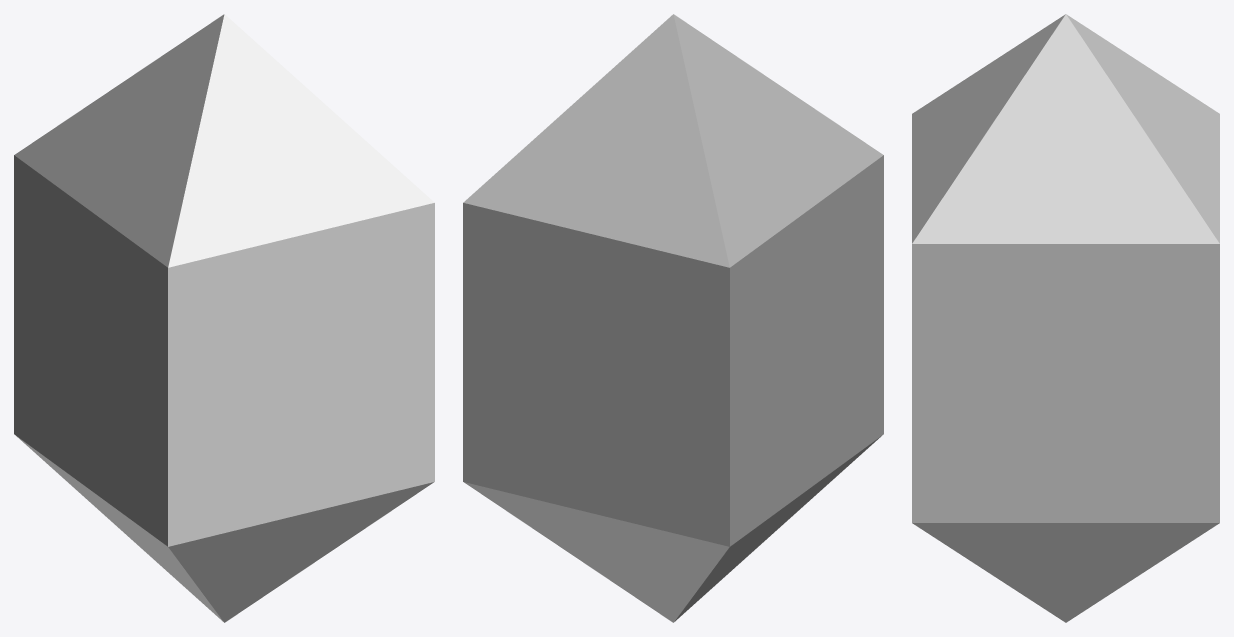
File: power-box.glb
The picture shows the model from 3 angles, left to right: view 1: azimuth 30°, elevation 25°; view 2: azimuth 150°, elevation 25°; view 3: azimuth 270°, elevation 25°; orthographic projection.
Visible parts, largest first — view 1: Cube; view 2: Cube; view 3: Cube.
Boxes of the visible parts, x1,y1,x2,y2 form: Cube: [14, 14, 434, 622]; Cube: [463, 14, 883, 622]; Cube: [912, 14, 1219, 622].
Bounding box in the file's own units: 2 × 4.36 × 2.
1 material, 1 textured.
